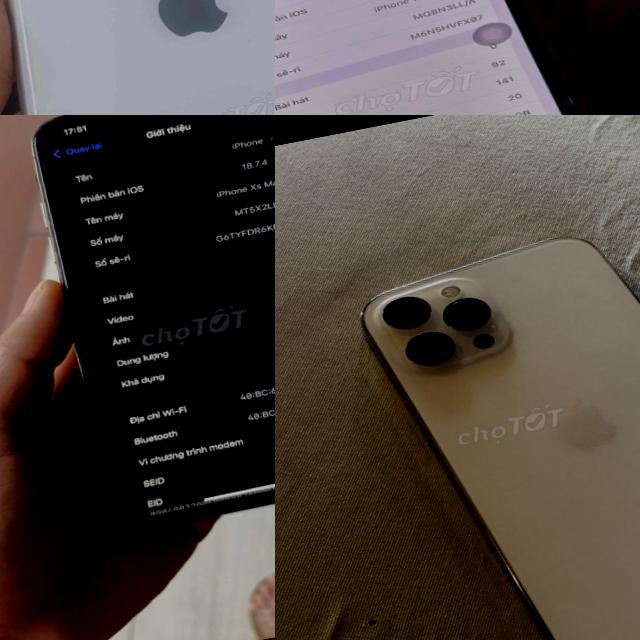gen_12_13: (337, 189, 640, 640)
gen_14: (275, 0, 640, 115)
gen_x_xs: (33, 115, 275, 527), (0, 0, 275, 115)
